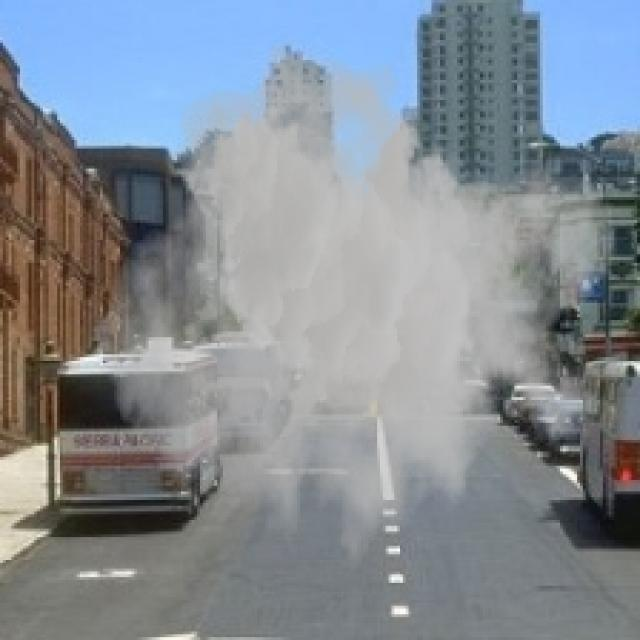smoke: (106, 40, 620, 594)
